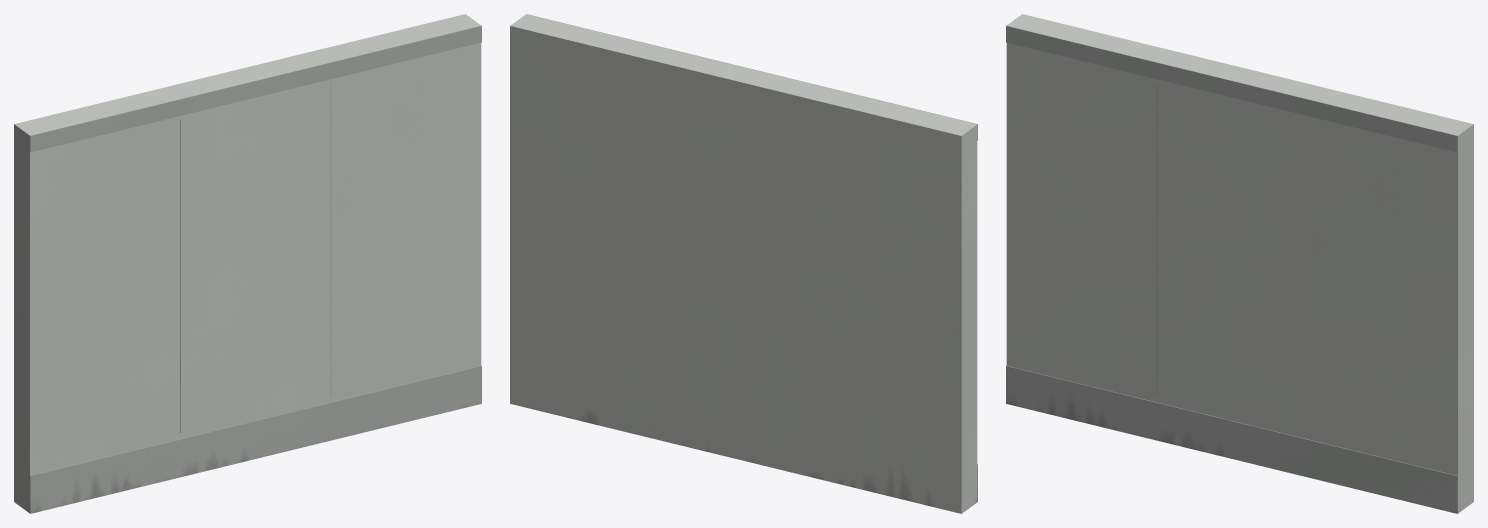
The model's file is facade_solid_4m.glb.
3 views of the same model, side by side, from view 1: azimuth 30°, elevation 25°; view 2: azimuth 150°, elevation 25°; view 3: azimuth 330°, elevation 25° (orthographic).
Visible parts, largest first — view 1: FacadeSolid; view 2: FacadeSolid; view 3: FacadeSolid.
Part boxes in pixels (x1,y1,x2,y2): FacadeSolid: [14, 14, 481, 513]; FacadeSolid: [510, 14, 977, 513]; FacadeSolid: [1006, 14, 1473, 513].
Size of what is drawn, in the model's own units: 4 by 3.2 by 0.25.
Materials: 1 (1 with a texture image).
